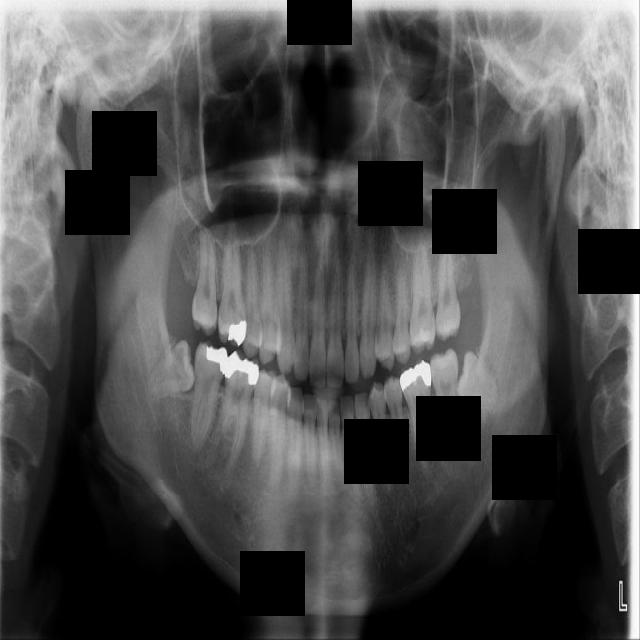52: (220, 348, 263, 401), (188, 337, 234, 385), (395, 356, 438, 403), (218, 300, 247, 345)
73: (571, 573, 575, 581)
BioHorizons Implant: (434, 230, 469, 342)
Biomet 3i Implant: (452, 349, 509, 418)
Blue Sky Bio Implant: (430, 346, 462, 452)
Caries: (191, 222, 222, 334)
Implant: (189, 336, 228, 453)
Keystone Dental Implant: (139, 338, 204, 400)
